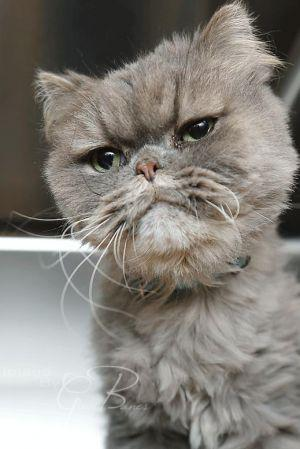persian: (27, 1, 300, 286)
